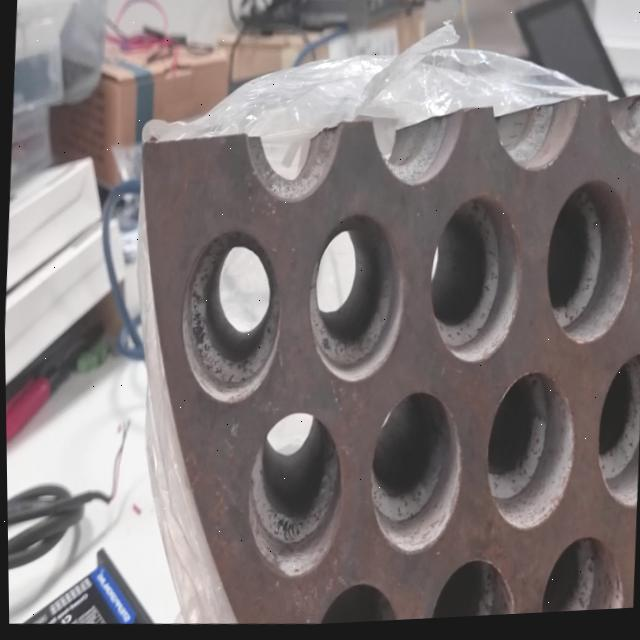Hole: (174, 223, 285, 408), (302, 209, 409, 390), (241, 410, 345, 585), (424, 195, 525, 371), (363, 389, 464, 560), (540, 181, 637, 354), (480, 372, 578, 540), (591, 356, 640, 517), (536, 535, 625, 618), (426, 557, 515, 623), (311, 580, 400, 628)
